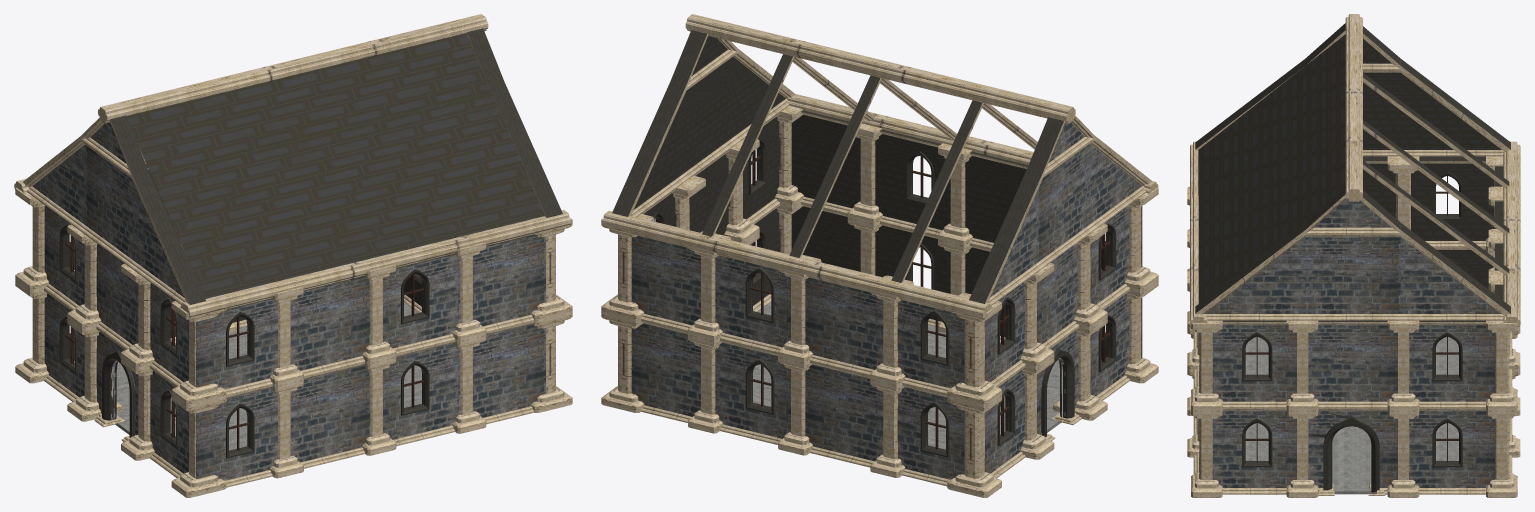
Rendered from edificio2.obj.
3 views of the same model, side by side, from view 1: azimuth 30°, elevation 25°; view 2: azimuth 150°, elevation 25°; view 3: azimuth 270°, elevation 25° (orthographic). The views are drawn at different scales.
Visible parts, largest first — view 1: edificio2; view 2: edificio2; view 3: edificio2.
Boxes of the visible parts, x1,y1,x2,y2 form: edificio2: (14,14,572,497); edificio2: (601,14,1158,497); edificio2: (1187,14,1520,497).
Size of the model in its own units: 13.25 by 10.76 by 10.5.
